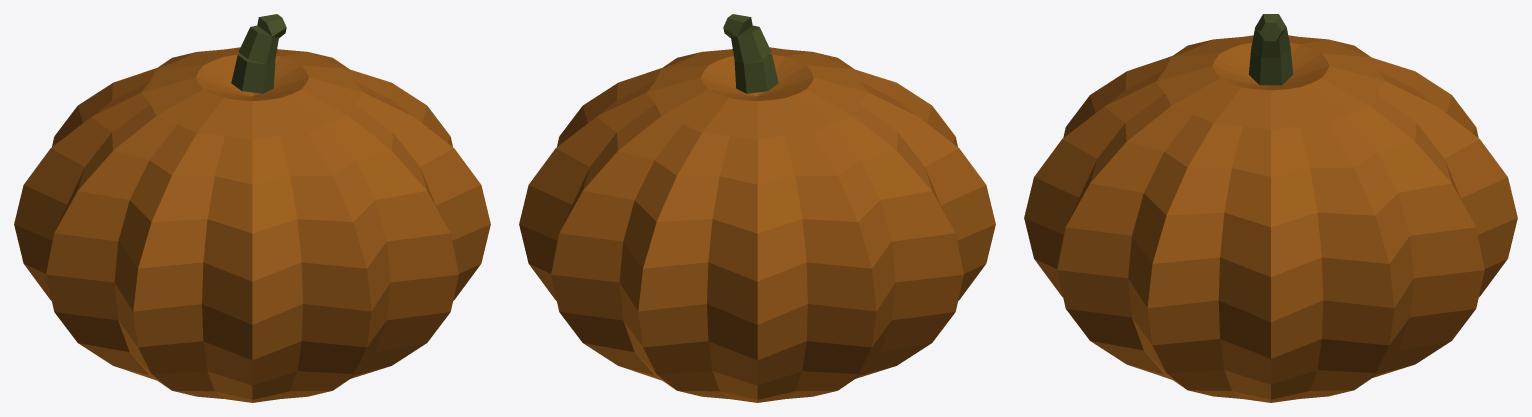
File: pumpkin_prize_giant.glb
3 views of the same model, side by side, from view 1: azimuth 30°, elevation 25°; view 2: azimuth 150°, elevation 25°; view 3: azimuth 270°, elevation 25° (orthographic). The views are drawn at different scales.
Parts seen in each view (by area): view 1: Pumpkin; view 2: Pumpkin; view 3: Pumpkin.
Part boxes in pixels (x1,y1,x2,y2): Pumpkin: [14, 14, 490, 402]; Pumpkin: [519, 14, 995, 402]; Pumpkin: [1024, 14, 1517, 402].
Size of the model in its own units: 3 by 2.46 by 3.
